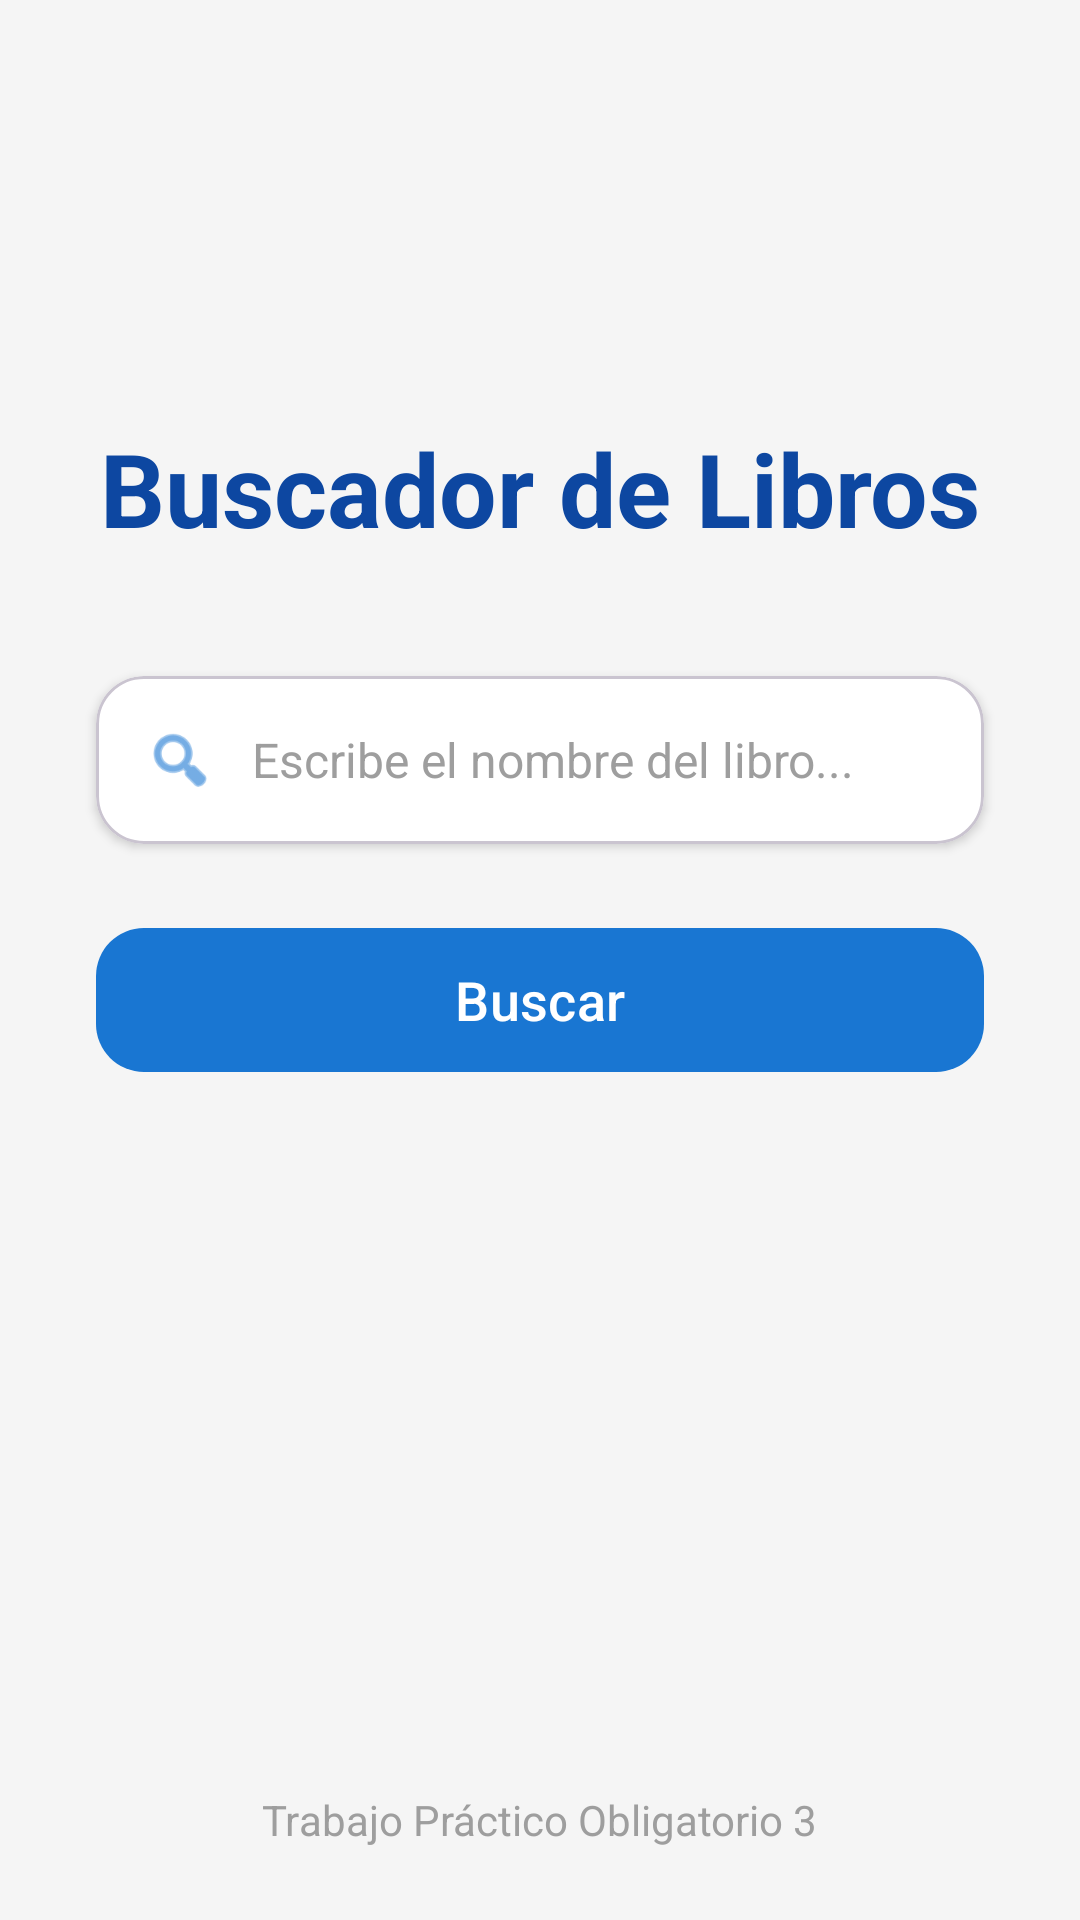

Where icons sit on this 1080×1920 app screen, as Rect(x1, y1, x2, y2):
search: Rect(153, 734, 207, 787)
